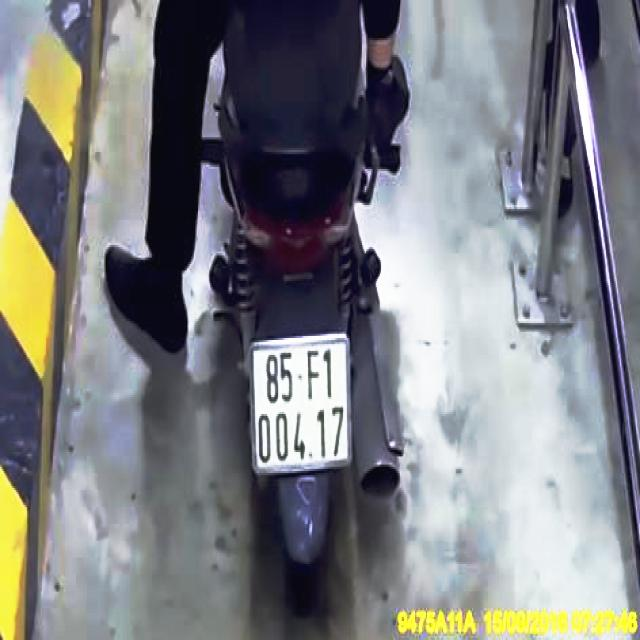license_plate: (250, 333, 353, 470)
